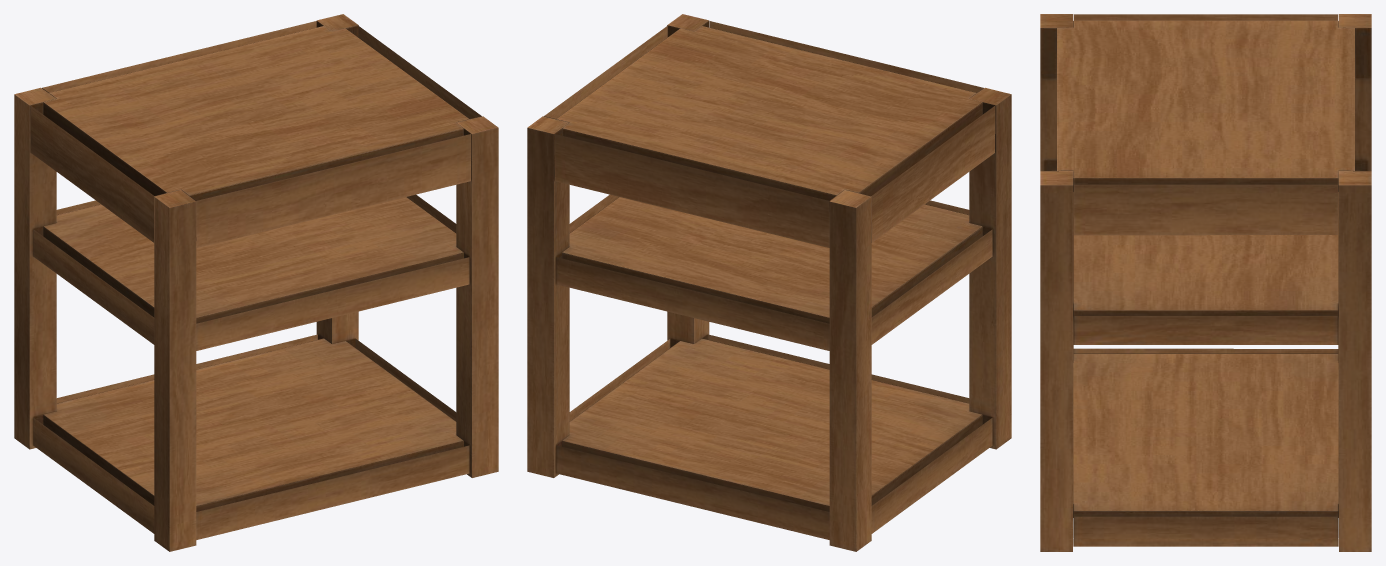
3 views of the same model, side by side, from view 1: azimuth 30°, elevation 25°; view 2: azimuth 150°, elevation 25°; view 3: azimuth 270°, elevation 25° (orthographic). The views are drawn at different scales.
Parts seen in each view (by area): view 1: side_table_01.001; view 2: side_table_01.001; view 3: side_table_01.001.
Part boxes in pixels (left/top/right/bottom): side_table_01.001: left=14, top=14, right=498, bottom=551; side_table_01.001: left=527, top=14, right=1011, bottom=551; side_table_01.001: left=1040, top=14, right=1371, bottom=551.
Bounding box in the file's own units: 0.5488 × 0.5507 × 0.4488.
Materials: 1 (1 with a texture image).
